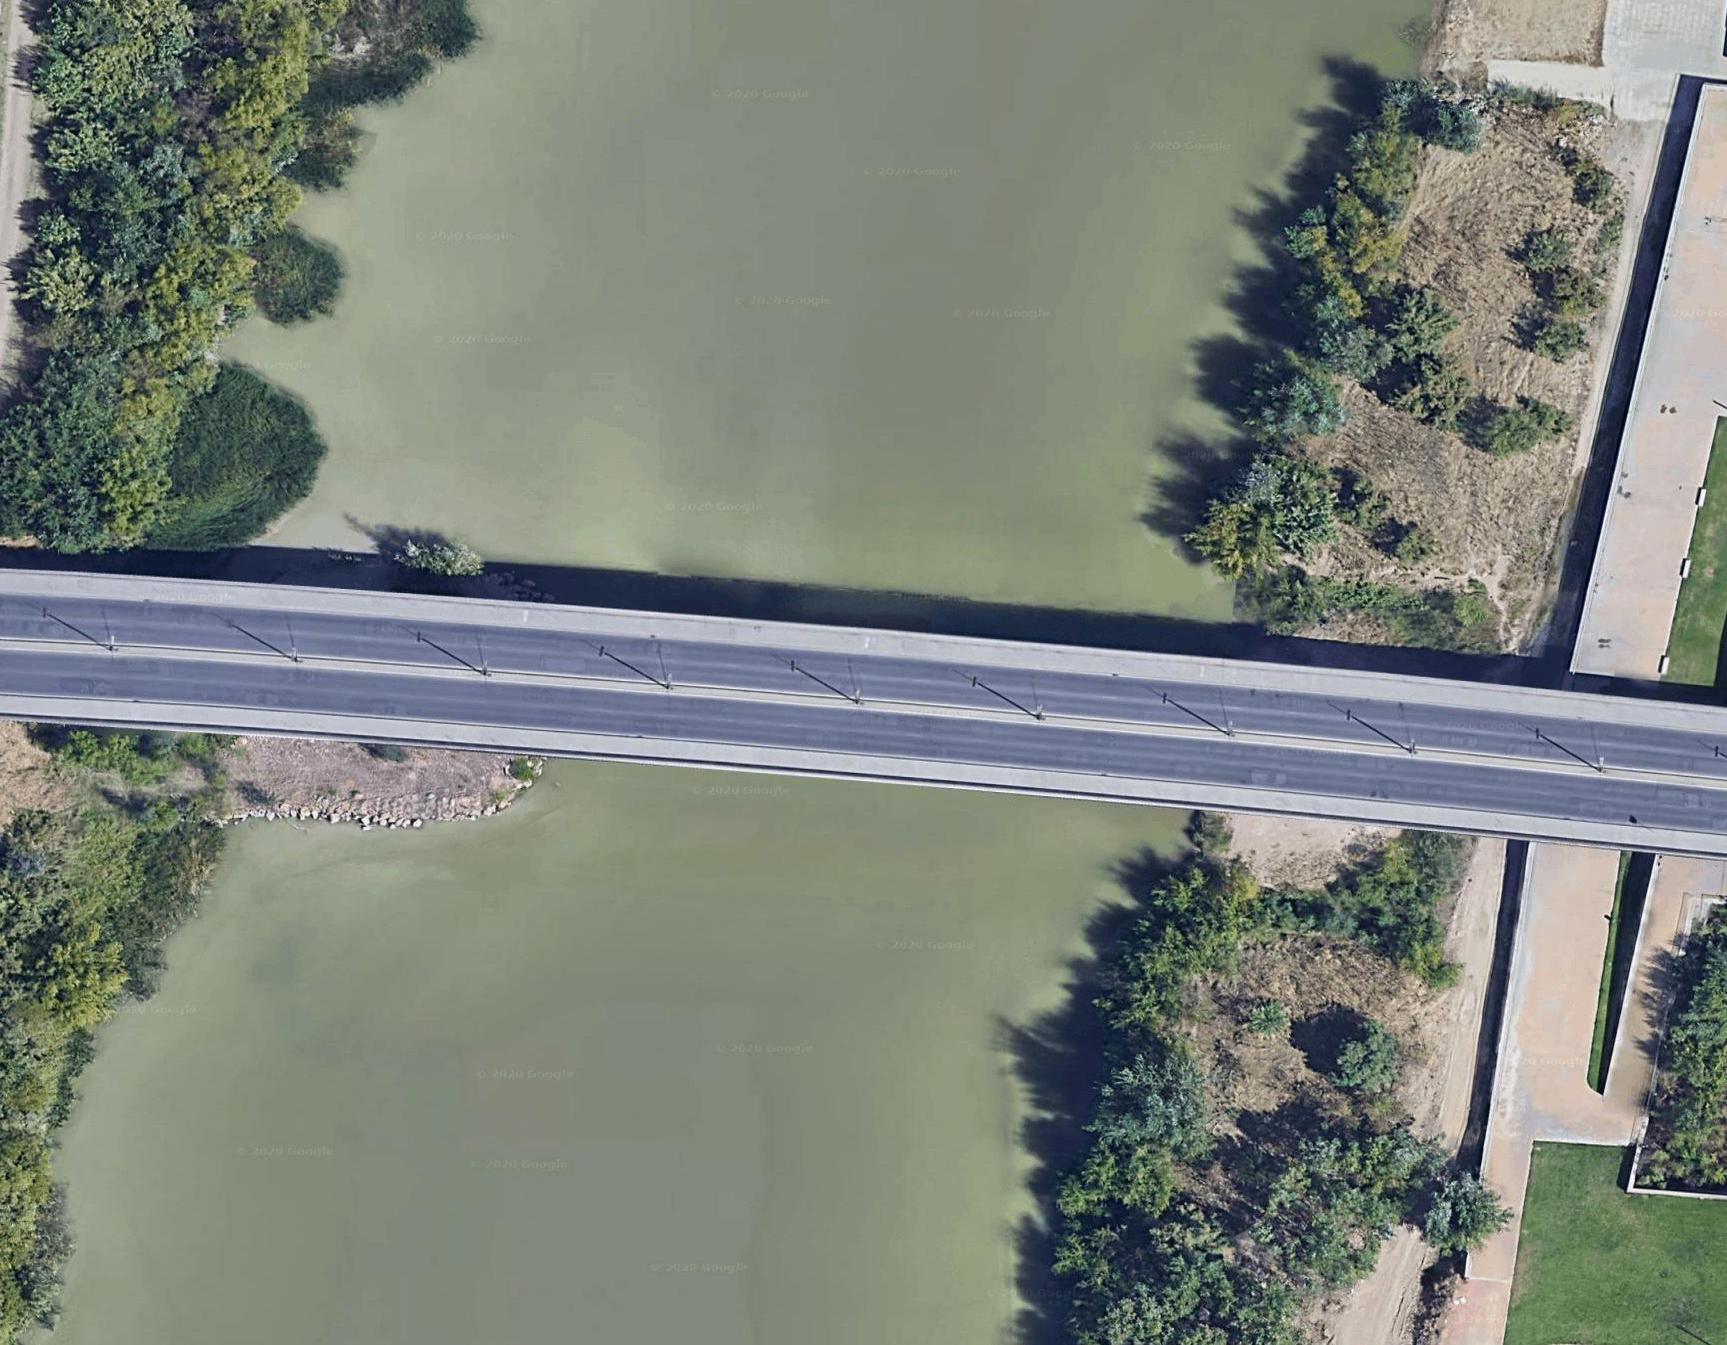bridge: (38, 487, 1698, 1001)
